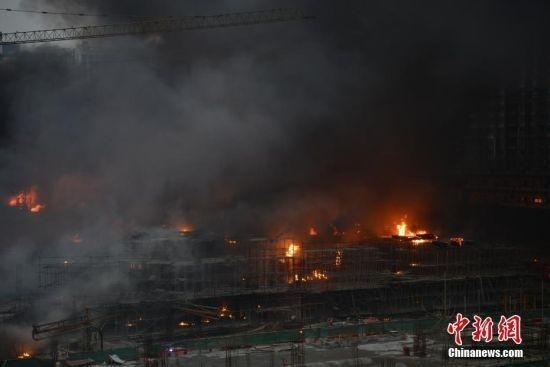fire: (392, 218, 429, 241), (8, 187, 42, 212), (283, 239, 300, 256), (17, 348, 32, 358), (308, 224, 317, 235)
